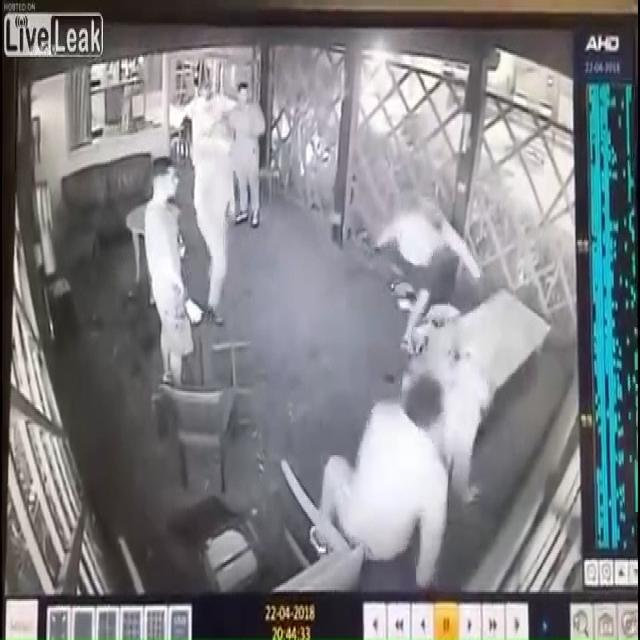fight: (306, 376, 458, 586), (378, 171, 465, 363)
